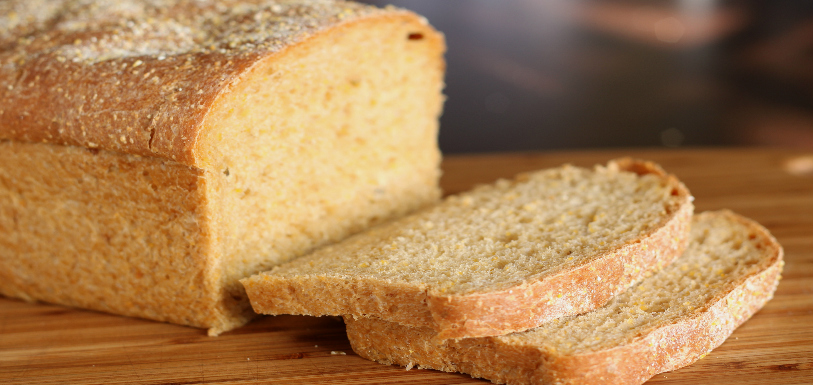slice of bread: (11, 1, 439, 323), (268, 157, 742, 371)
